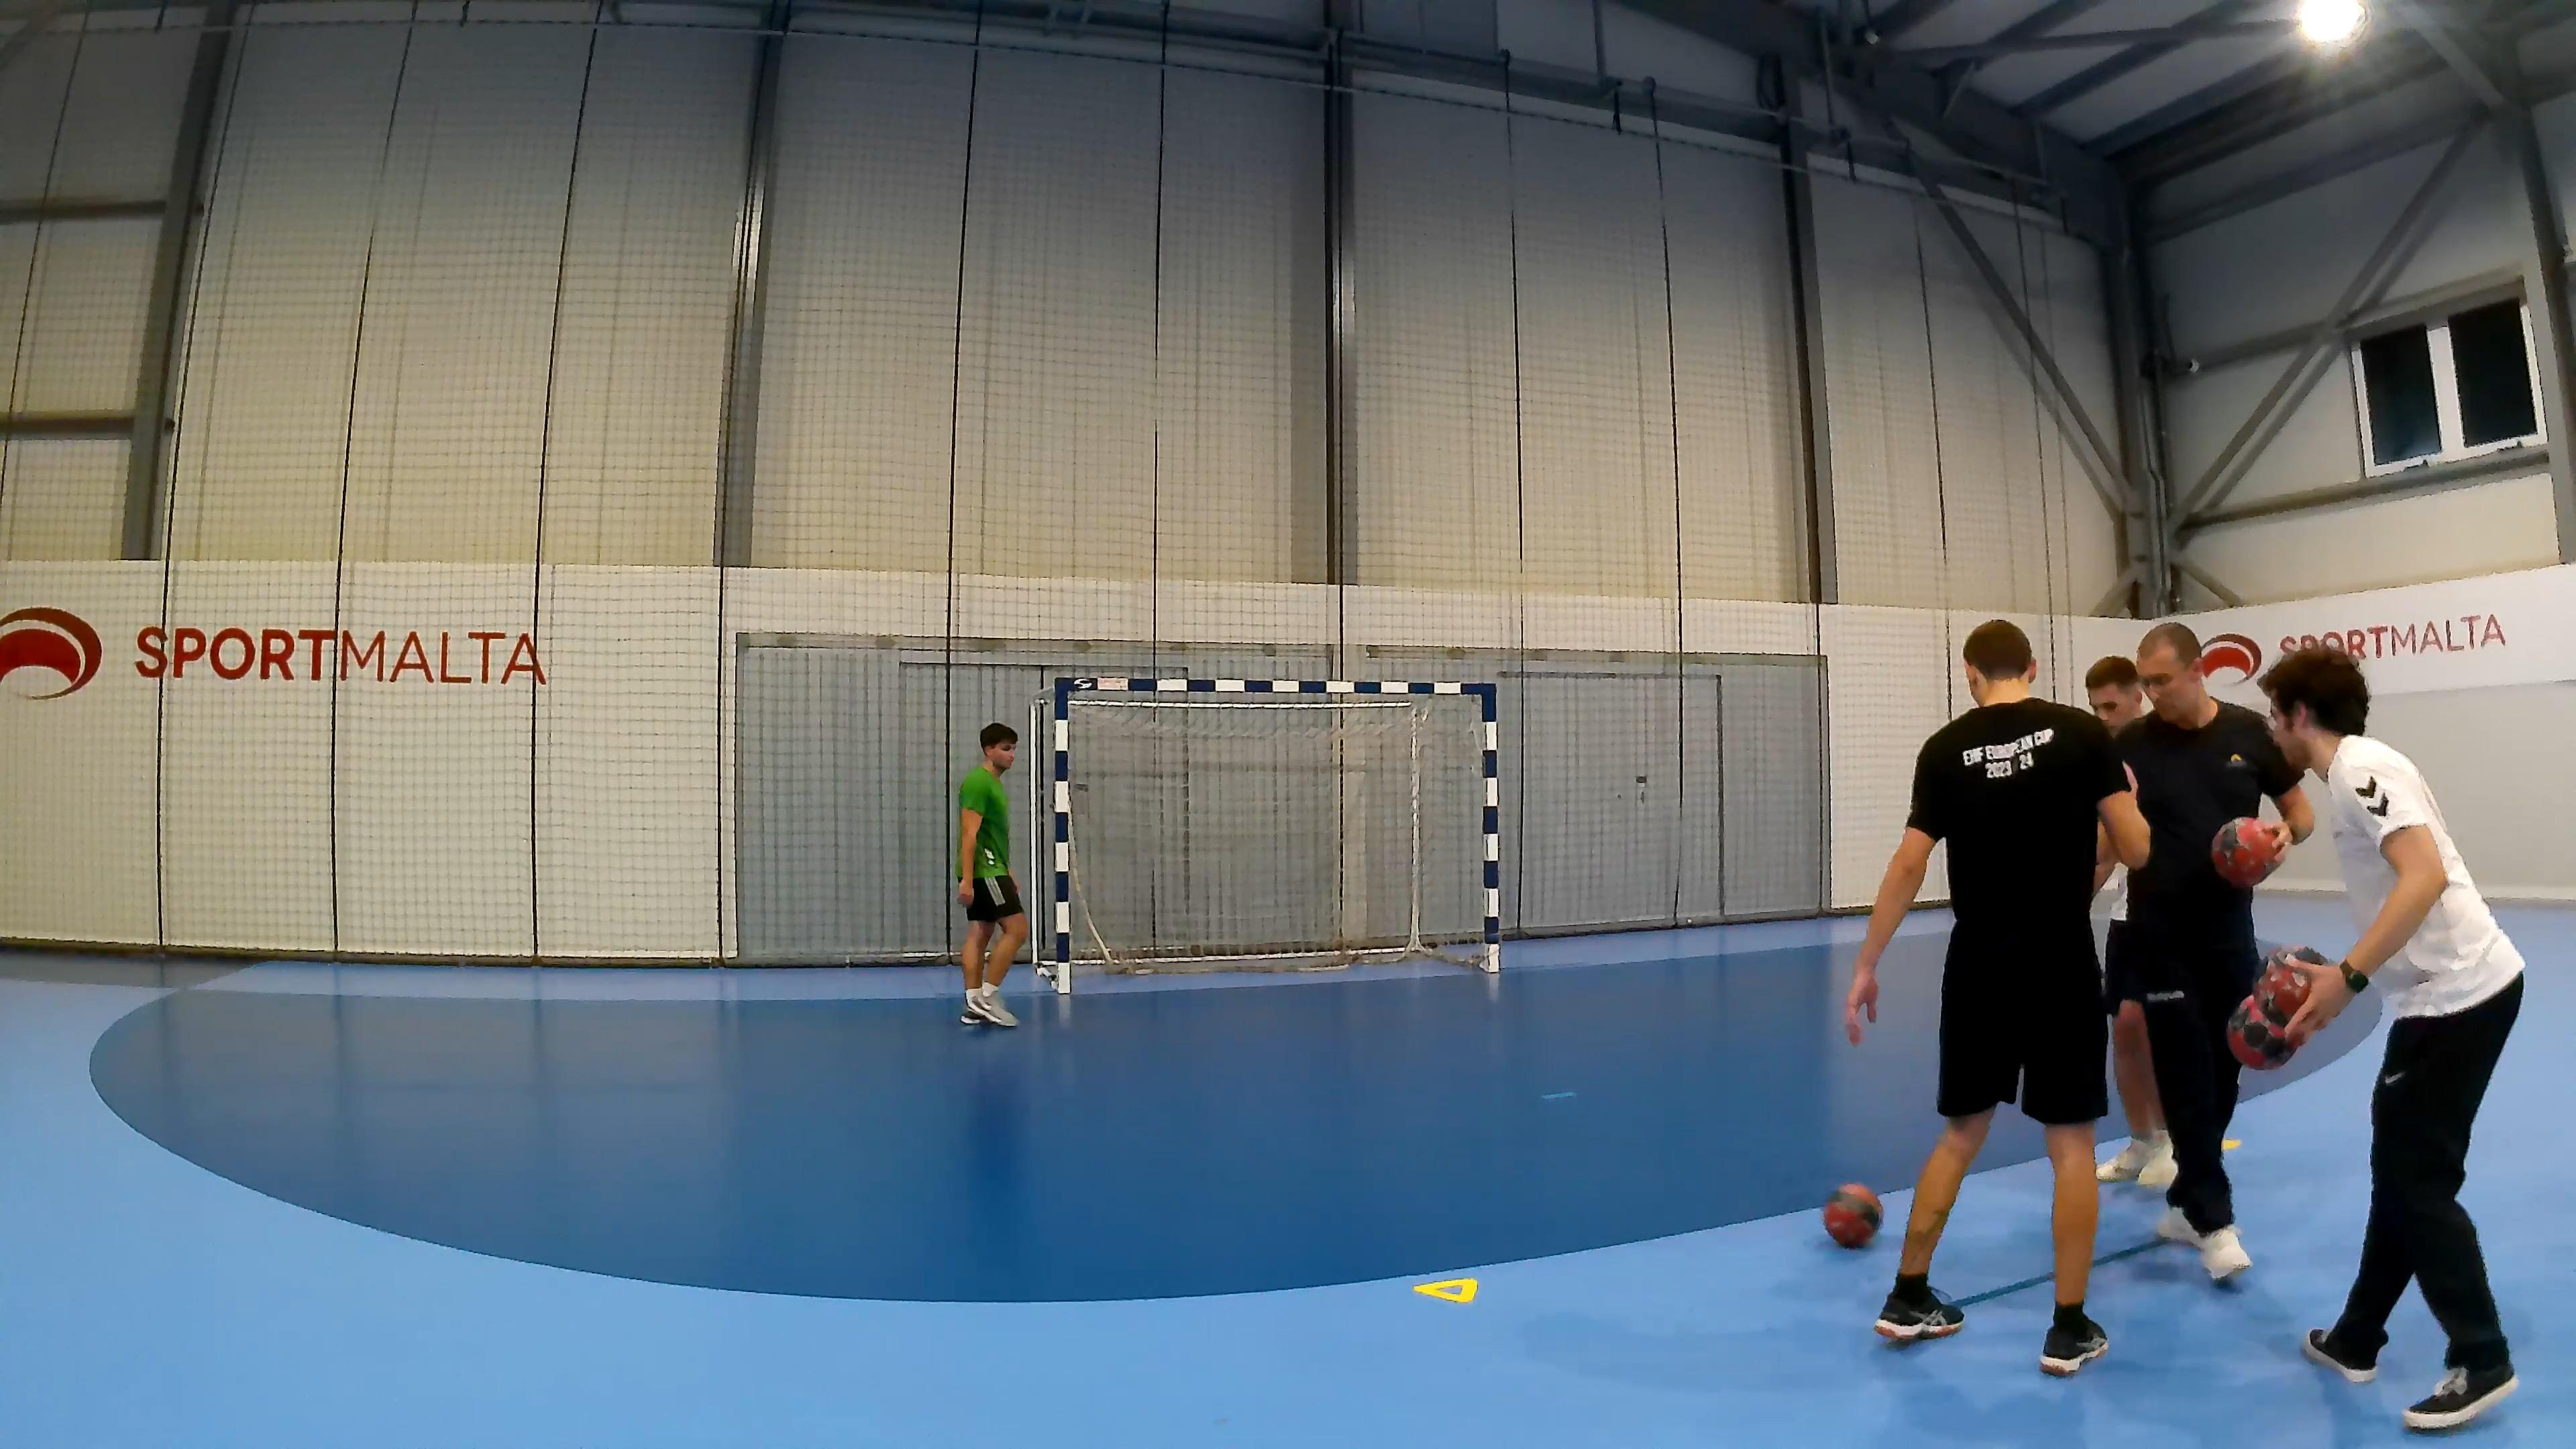handball: (2226, 943, 2328, 1070), (2210, 816, 2281, 888), (1822, 1182, 1882, 1247)
